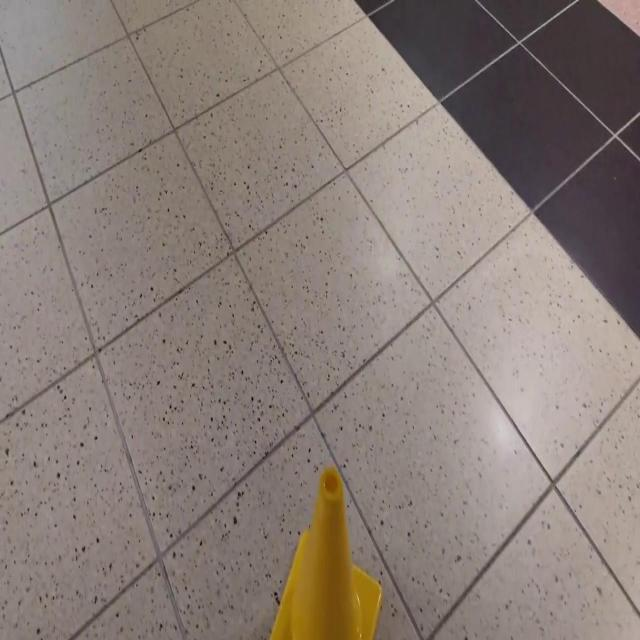frc_cone: (268, 450, 394, 640)
